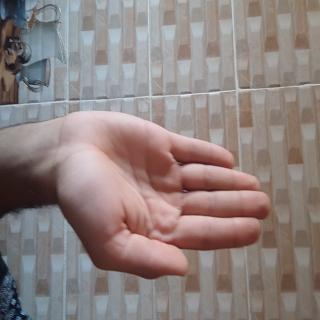SEEN: (77, 58, 214, 320)
